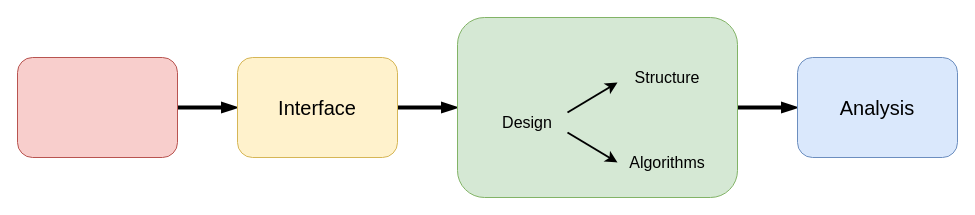
Some shapes in this 975 by 215 pixel diagram are drawn without their labels. The box of each missing label's shape, as (x1, y1, x2, y2) in pixels:
Implementation: (456, 16, 738, 198)
Motivating Problem: (16, 56, 178, 158)
